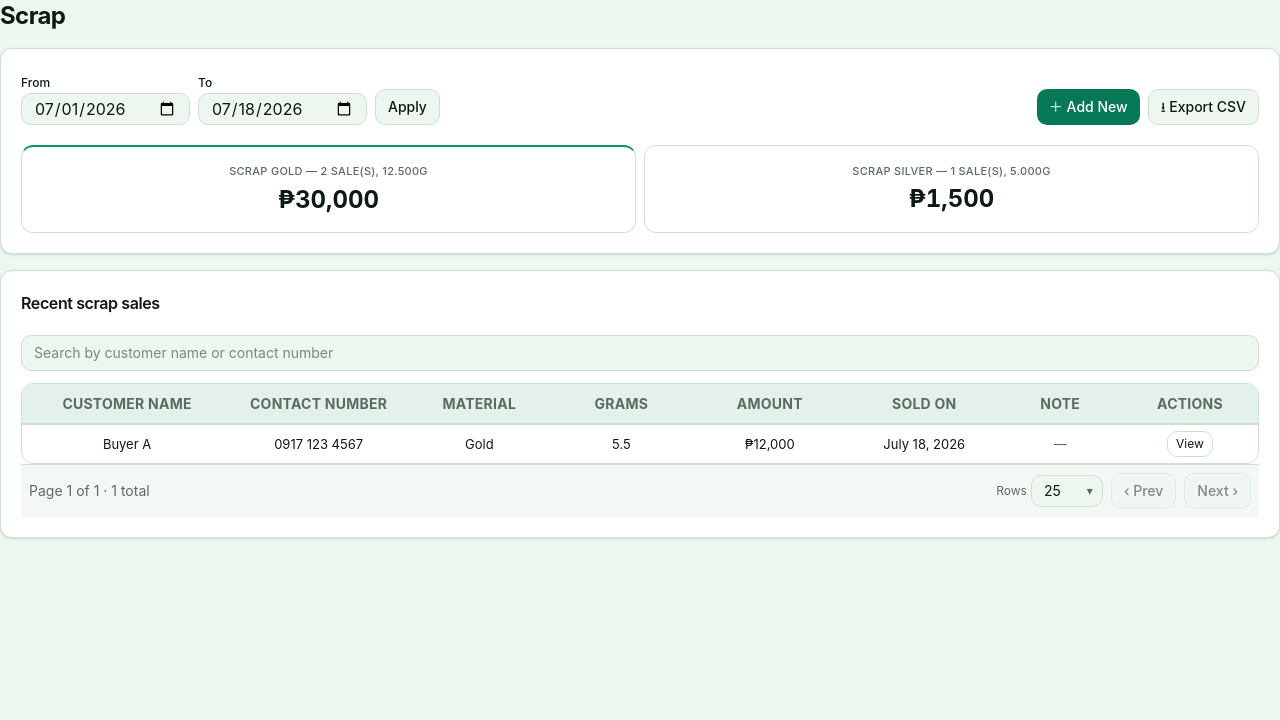
Test: ScrapView › groups a customer into one row; the Owner View lists the pieces with Edit/Delete
The width and height of the screenshot is (1280, 720).
expect the text "Buyer A" is shown: met, box 22,424 -> 232,463
Click the button "View". click: (1190, 444)
box: 1167,431 -> 1213,457
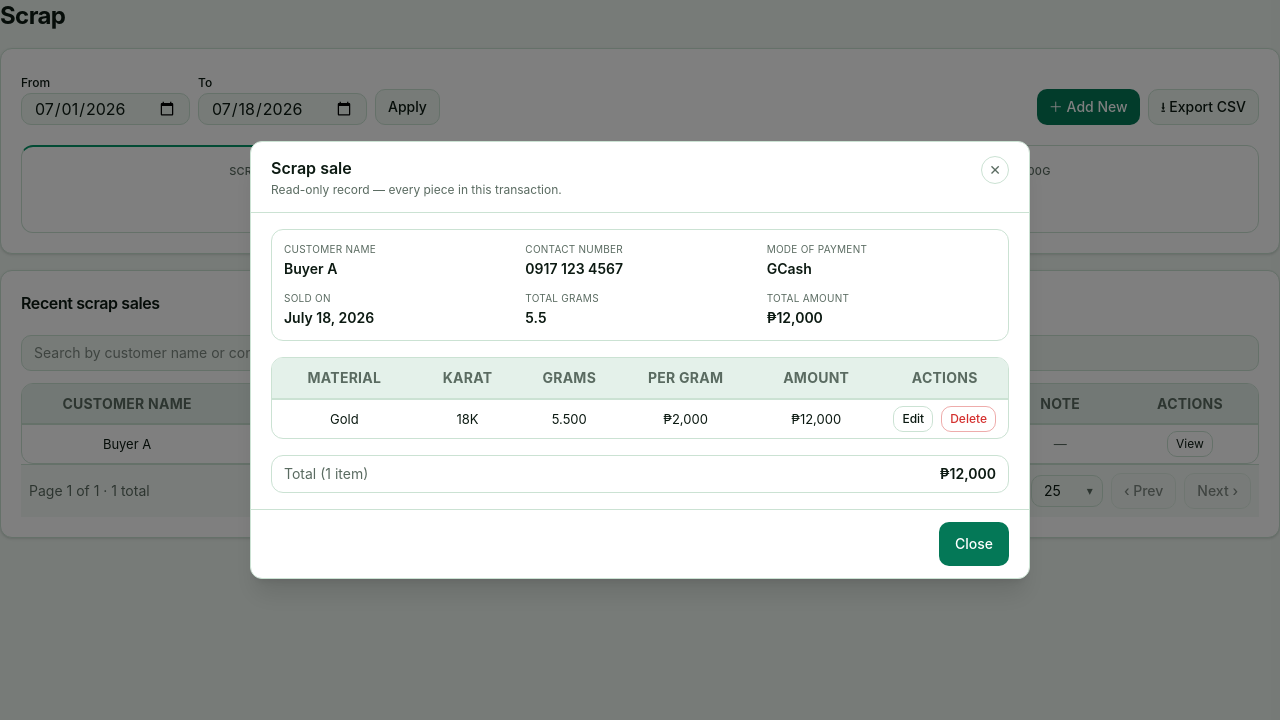
expect the element with test id "scrap-group-body" is shown: met, box 271,229 -> 1009,493
expect the button with test id "scrap-edit-s1" is shown: met, box 893,406 -> 933,432
expect the button with test id "scrap-delete-s1" is shown: met, box 941,406 -> 996,432
